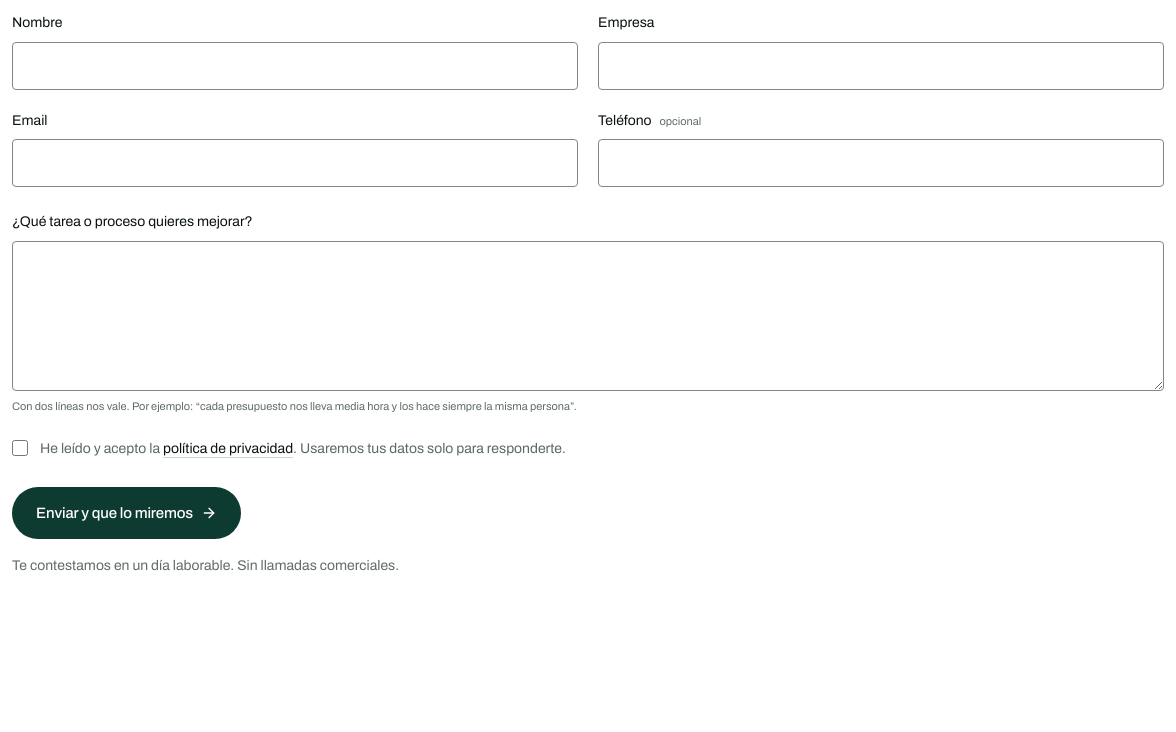
Test: ContactForm › blocks submission and explains why when fields are empty
Click the button "Enviar y que lo miremos": (126, 513) [12,487,241,539]
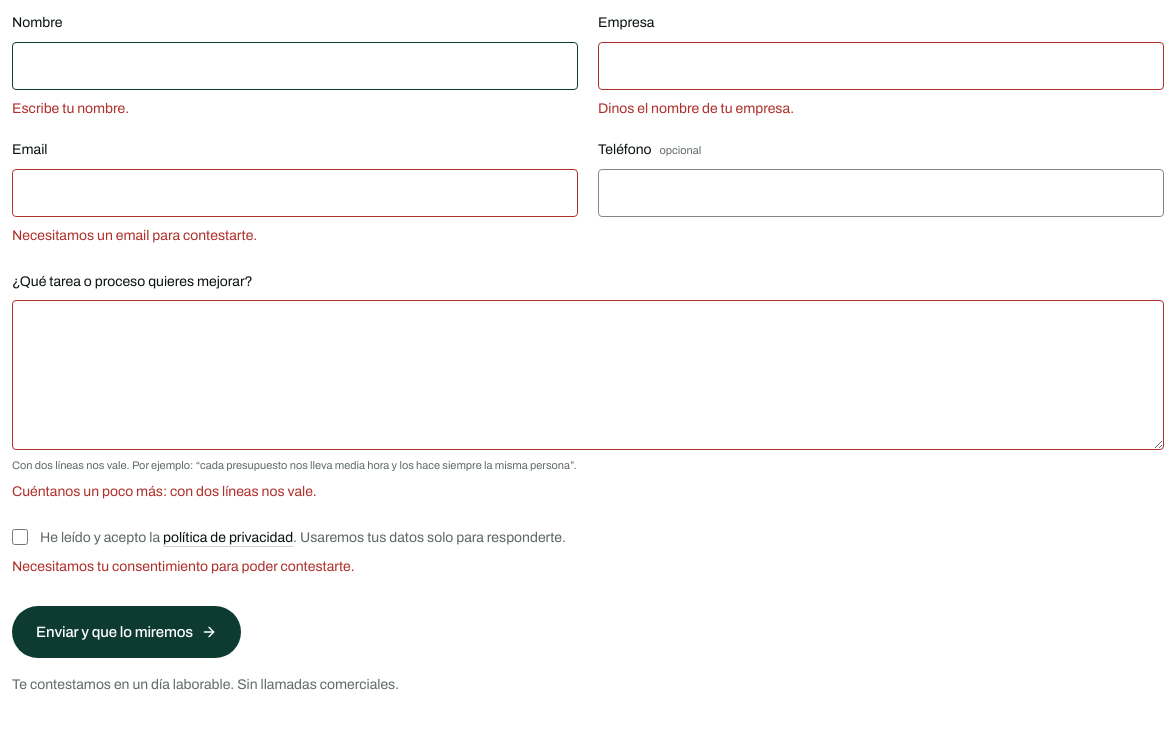
expect the text "Escribe tu nombre." is shown: met, box [12,101,129,116]
